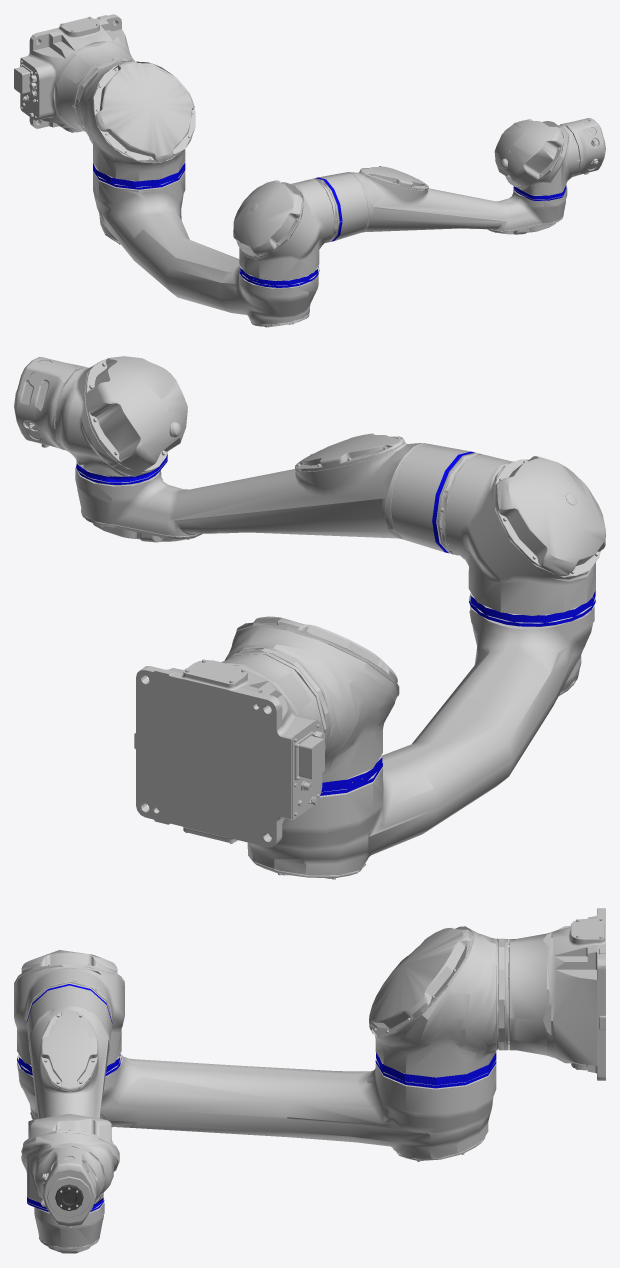
File: robot.obj
3 renders of one model, top to bottom at view 1: azimuth 30°, elevation 25°; view 2: azimuth 150°, elevation 25°; view 3: azimuth 270°, elevation 25°, orthographic. The views are drawn at different scales.
Visible parts, largest first — view 1: Arm_1, Joint_1, Arm_2, Joint_2, Base, Joint_3, ToolBase; view 2: Arm_1, Base, Arm_2, Joint_2, Joint_1, Joint_3, ToolBase; view 3: Arm_1, Joint_1, Base, Arm_2, Joint_2, Joint_3, ToolBase.
Part boxes in pixels (box(x1,y1,x2,y2)): Arm_1: box(93, 171, 318, 327); Joint_1: box(74, 59, 195, 189); Arm_2: box(315, 166, 567, 241); Joint_2: box(233, 178, 339, 287); Base: box(14, 14, 134, 132); Joint_3: box(494, 119, 579, 201); ToolBase: box(560, 118, 605, 176); Arm_1: box(247, 605, 594, 879); Base: box(134, 654, 325, 847); Arm_2: box(75, 433, 475, 553); Joint_2: box(437, 453, 605, 626); Joint_1: box(224, 616, 399, 796); Joint_3: box(54, 356, 187, 485); ToolBase: box(14, 357, 85, 449); Arm_1: box(17, 1054, 496, 1161); Joint_1: box(369, 926, 509, 1088); Base: box(509, 908, 605, 1080); Arm_2: box(26, 984, 112, 1253); Joint_2: box(14, 950, 124, 1075); Joint_3: box(21, 1113, 119, 1212); ToolBase: box(34, 1146, 104, 1227).
Bounding box in the file's own units: 1.29 × 0.5474 × 1.32.
